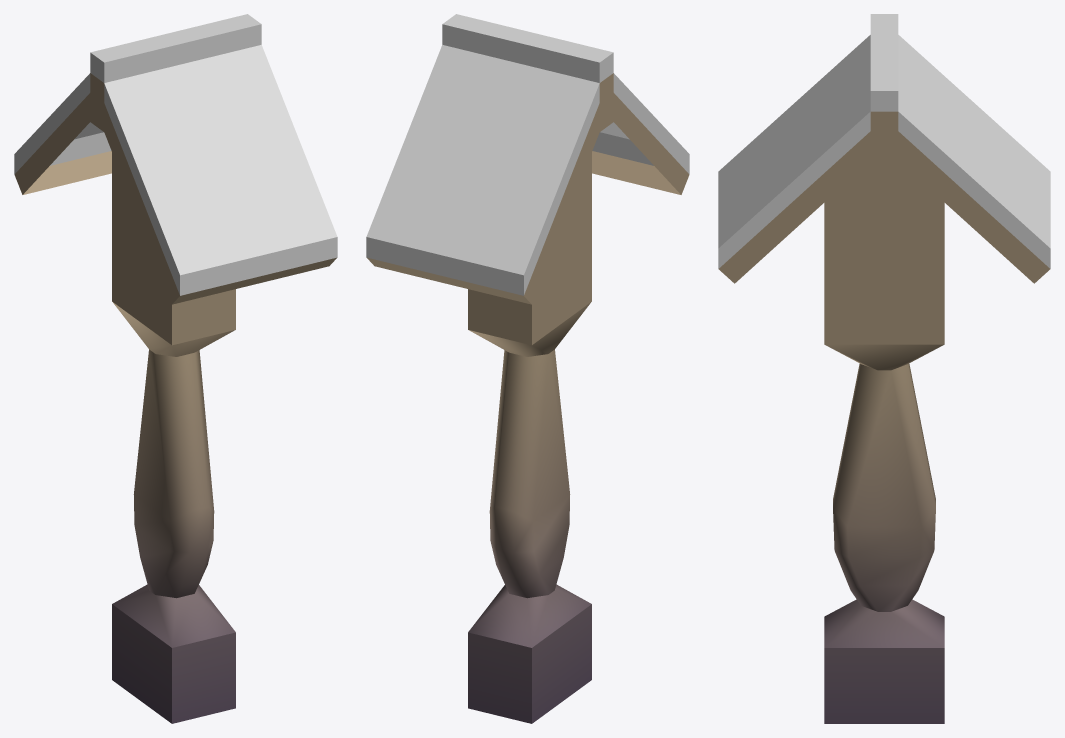
Rendered from prop_mogila2V3.fbx.
The picture shows the model from 3 angles, left to right: view 1: azimuth 30°, elevation 25°; view 2: azimuth 150°, elevation 25°; view 3: azimuth 270°, elevation 25°; orthographic projection.
Visible parts, largest first — view 1: Prop_Mogila2; view 2: Prop_Mogila2; view 3: Prop_Mogila2.
Boxes of the visible parts, bbox=[...] form: Prop_Mogila2: bbox=[14, 14, 337, 723]; Prop_Mogila2: bbox=[366, 14, 689, 723]; Prop_Mogila2: bbox=[718, 14, 1050, 723].
Bounding box in the file's own units: 30.28 × 120 × 55.2.
